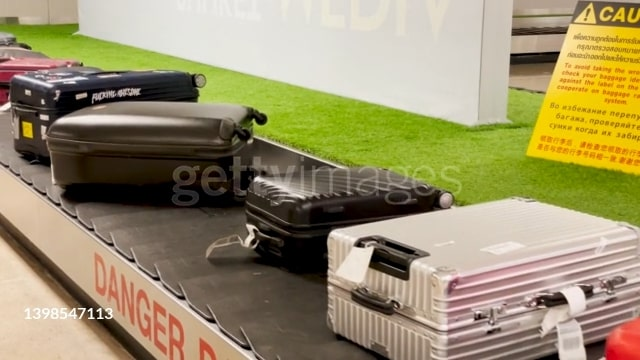baggage: (325, 197, 640, 353), (47, 97, 270, 204), (240, 166, 440, 266), (6, 67, 205, 167)
